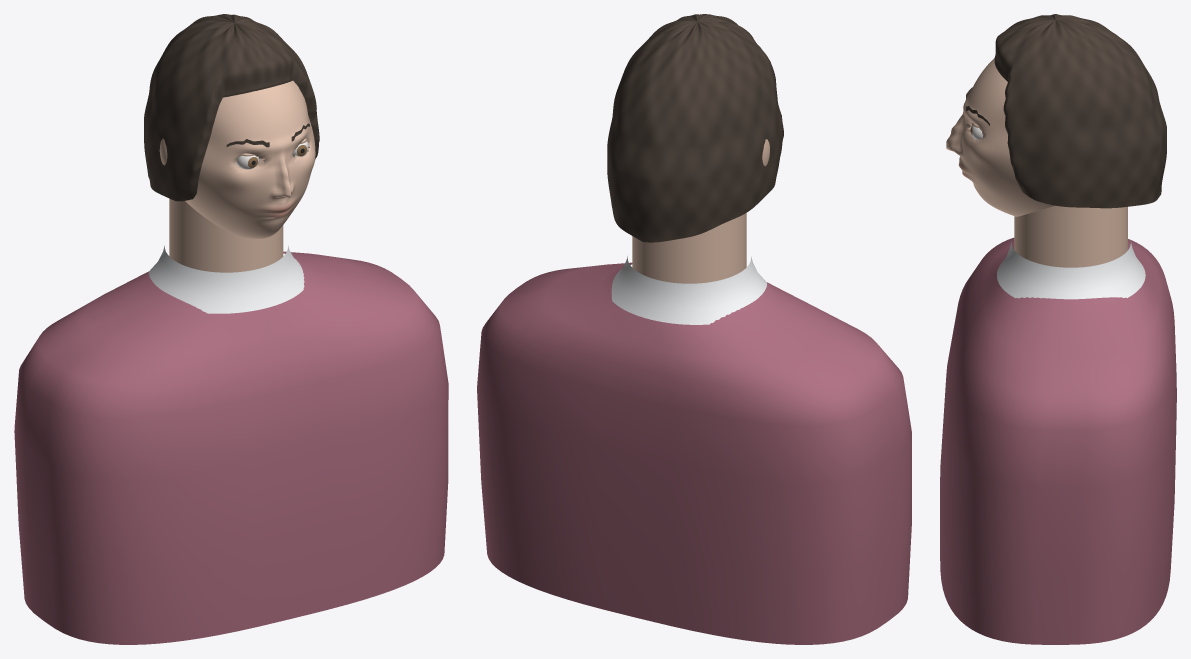
The model's file is tutor_female.glb.
3 views of the same model, side by side, from view 1: azimuth 30°, elevation 25°; view 2: azimuth 150°, elevation 25°; view 3: azimuth 270°, elevation 25° (orthographic). The views are drawn at different scales.
Parts seen in each view (by area): view 1: Body, FaceMesh; view 2: Body, FaceMesh; view 3: Body, FaceMesh.
Boxes of the visible parts, x1,y1,x2,y2 form: Body: (14, 245, 448, 644); FaceMesh: (144, 14, 319, 272); Body: (477, 256, 911, 644); FaceMesh: (607, 14, 783, 283); Body: (940, 237, 1176, 644); FaceMesh: (946, 14, 1166, 267).
Size of the model in its own units: 0.448 by 0.6033 by 0.242.
